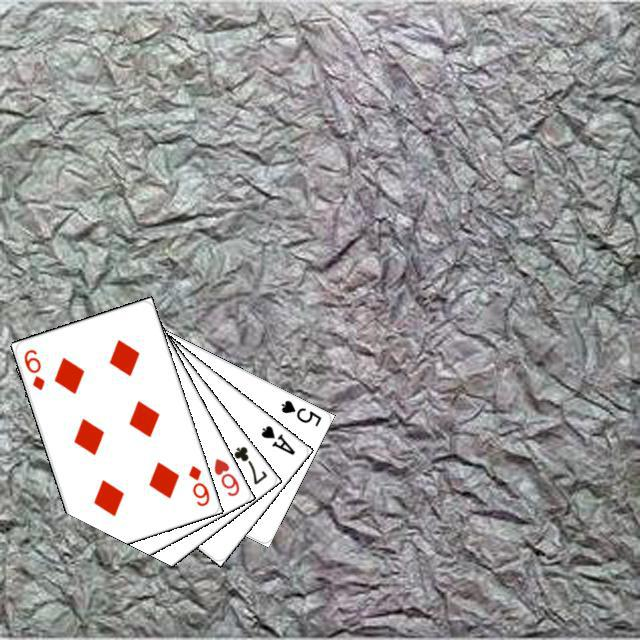5s: (276, 395, 323, 428)
6d: (183, 460, 211, 508), (19, 344, 46, 392)
6h: (209, 453, 241, 498)
7c: (229, 441, 269, 486)
As: (256, 420, 297, 457)
